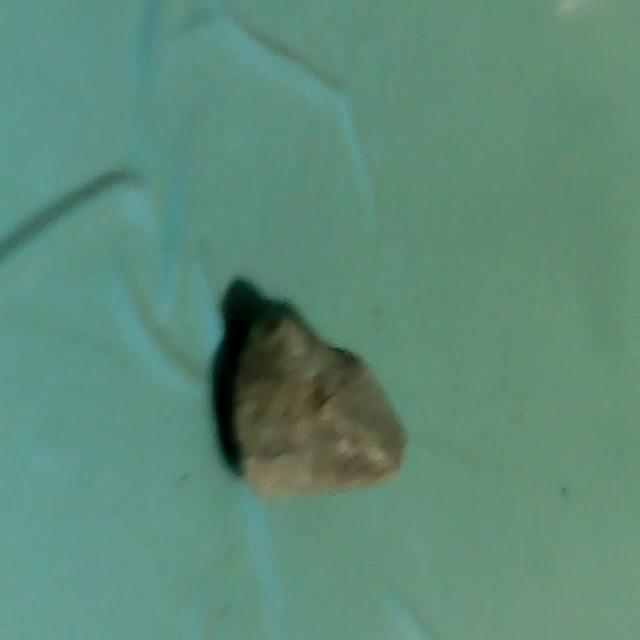rock: (220, 290, 409, 500)
